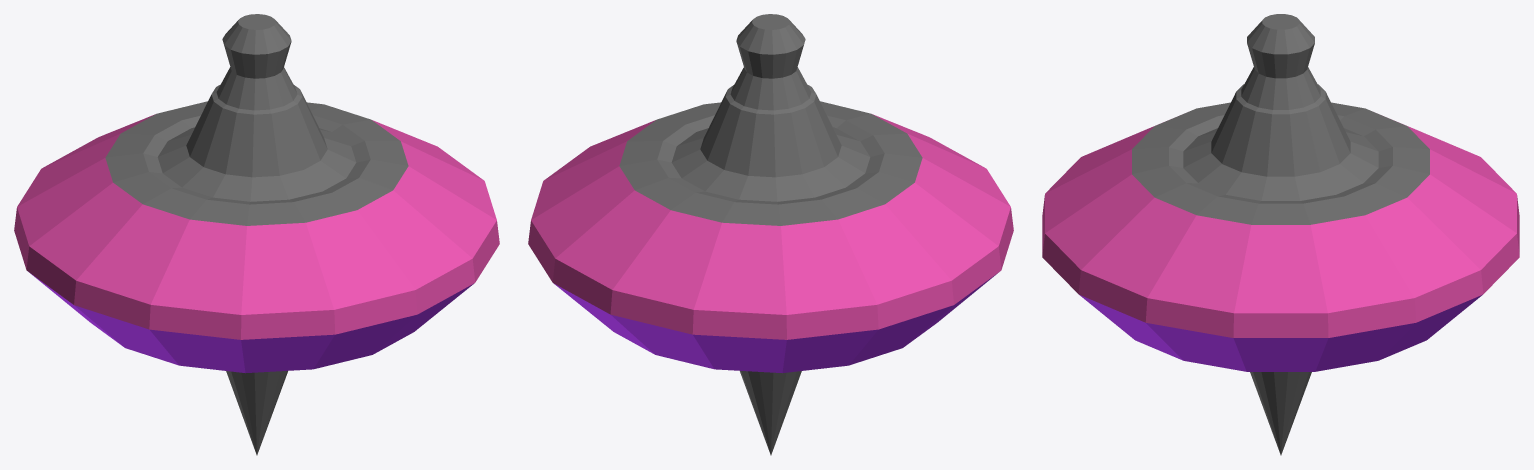
File: Spintoy.fbx
The picture shows the model from 3 angles, left to right: view 1: azimuth 30°, elevation 25°; view 2: azimuth 150°, elevation 25°; view 3: azimuth 270°, elevation 25°; orthographic projection.
Parts seen in each view (by area): view 1: F_Spintoy; view 2: F_Spintoy; view 3: F_Spintoy.
Part boxes in pixels (box(x1,y1,x2,y2)): F_Spintoy: box(14, 14, 499, 455); F_Spintoy: box(528, 14, 1013, 455); F_Spintoy: box(1042, 14, 1519, 455).
Bounding box in the file's own units: 185 × 186 × 185.
